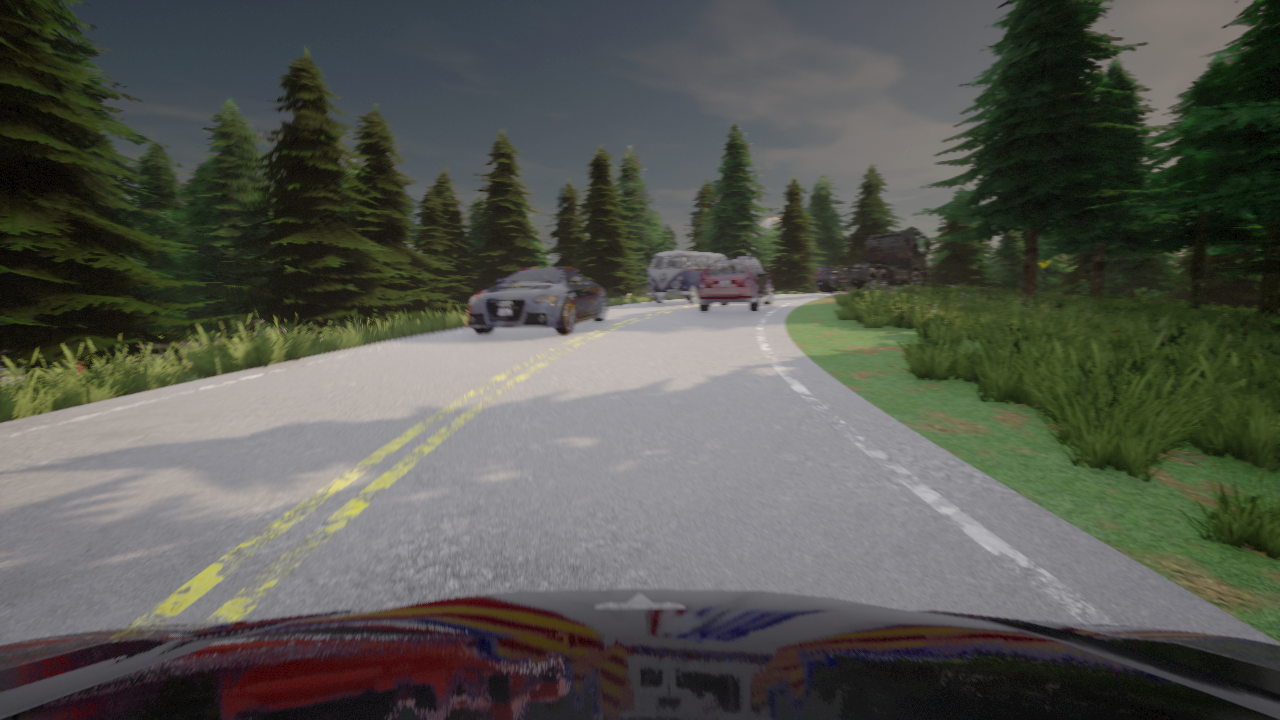cyclist: (0, 588, 1279, 719), (467, 267, 607, 334), (810, 228, 930, 292), (698, 257, 772, 312), (647, 252, 724, 304), (850, 285, 892, 290)
